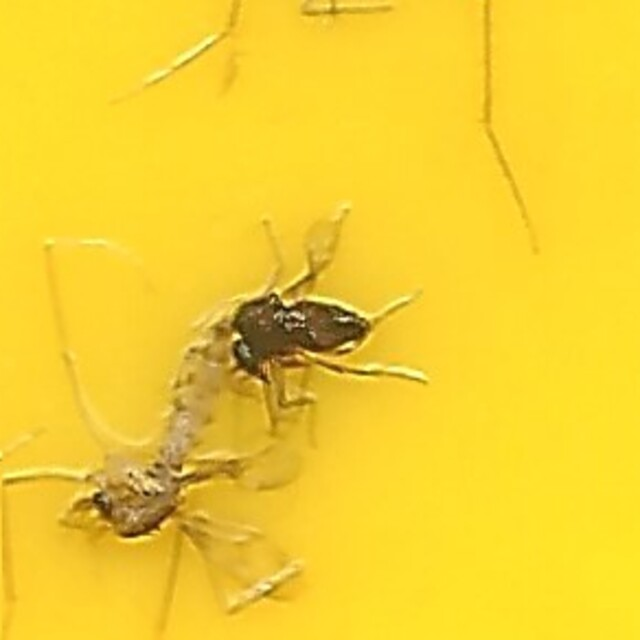Brachycera: (219, 232, 421, 408)
